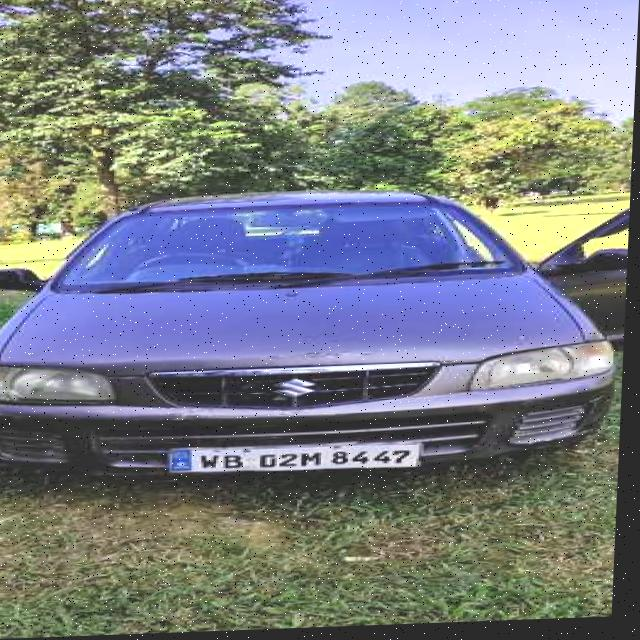plate: (170, 443, 424, 479)
